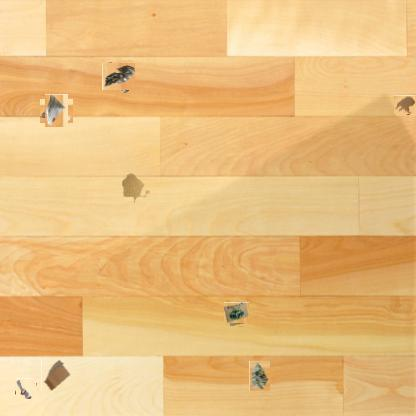dirty: (41, 357, 72, 391), (104, 61, 134, 92), (42, 97, 71, 125), (249, 361, 270, 391), (225, 301, 248, 325), (16, 379, 35, 398)
liquid: (121, 172, 151, 204), (395, 95, 416, 115)
